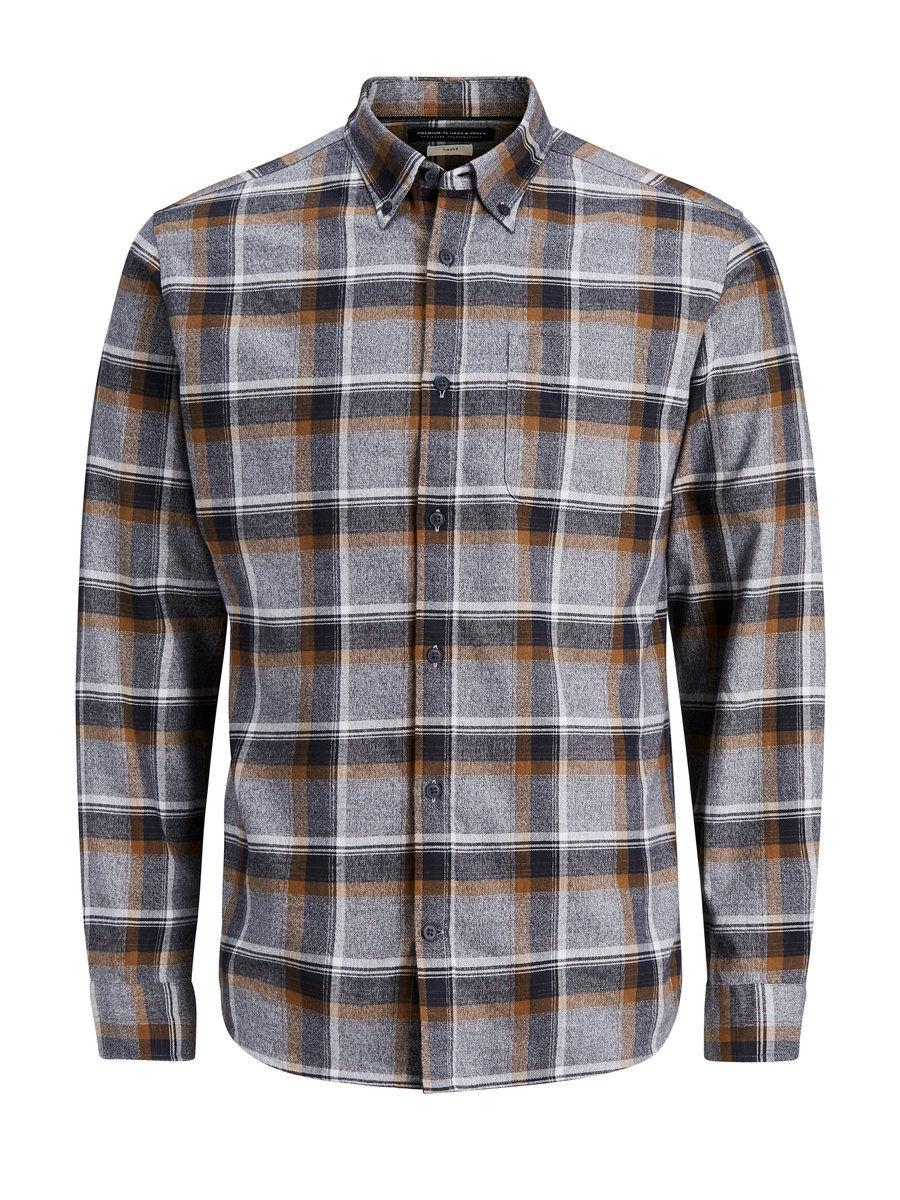teeshirt: (54, 69, 822, 1100)
